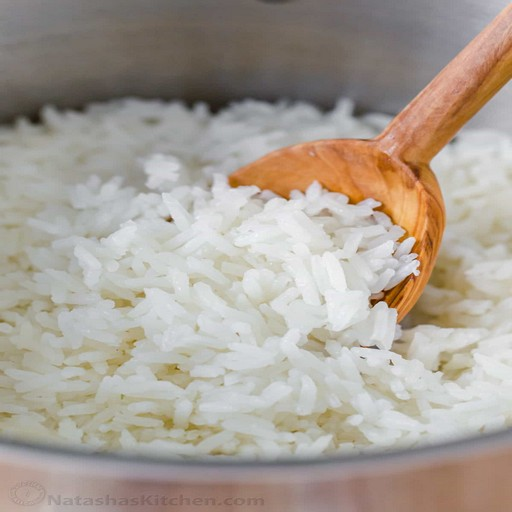rice: (16, 208, 343, 415)
